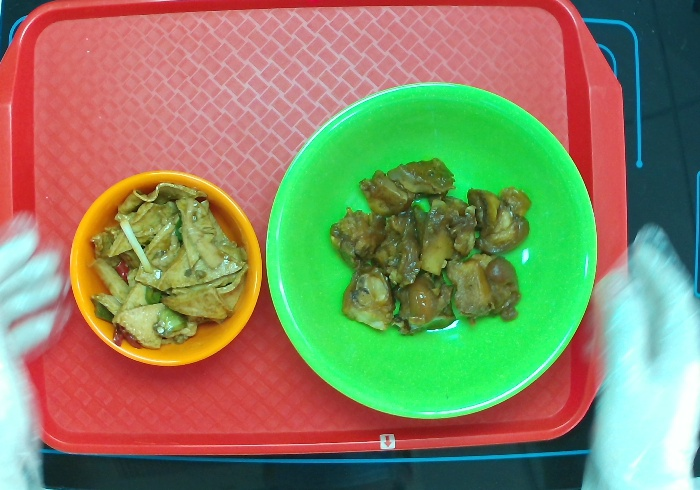YKMZ-Ju_Se_Yuan_Wan: (67, 166, 263, 368)
YKMZ-Lv_Se_Tang_Wan: (264, 78, 598, 421)
